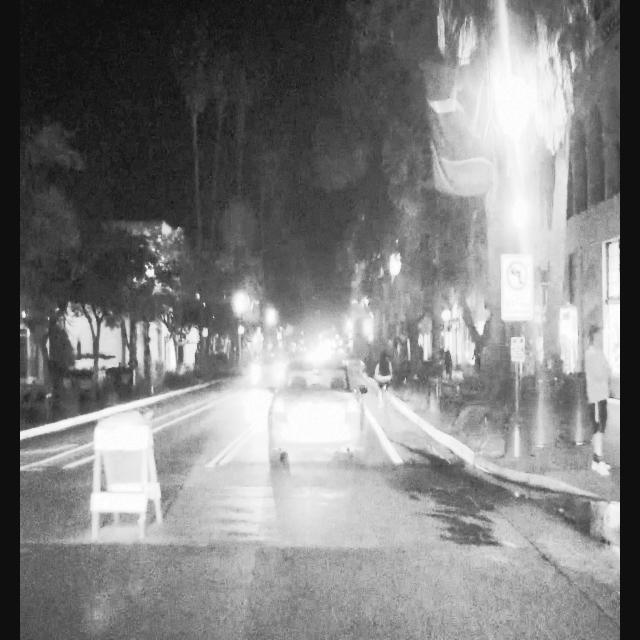Light: (511, 173, 528, 235)
Sign: (500, 253, 533, 317), (512, 337, 525, 362)
